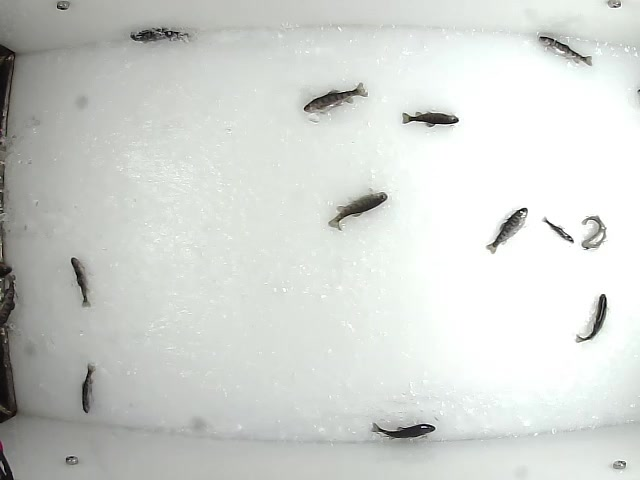fish: (326, 190, 389, 231), (301, 79, 369, 116), (485, 205, 528, 255), (573, 290, 610, 344), (537, 34, 594, 69), (371, 420, 438, 441), (121, 23, 190, 42), (68, 257, 92, 309), (400, 107, 459, 128), (578, 212, 608, 251), (77, 362, 96, 415), (540, 216, 574, 243)
